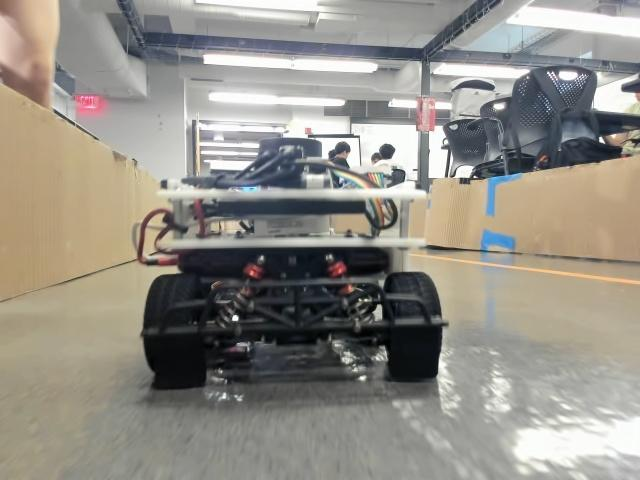Car: (146, 136, 442, 389)
